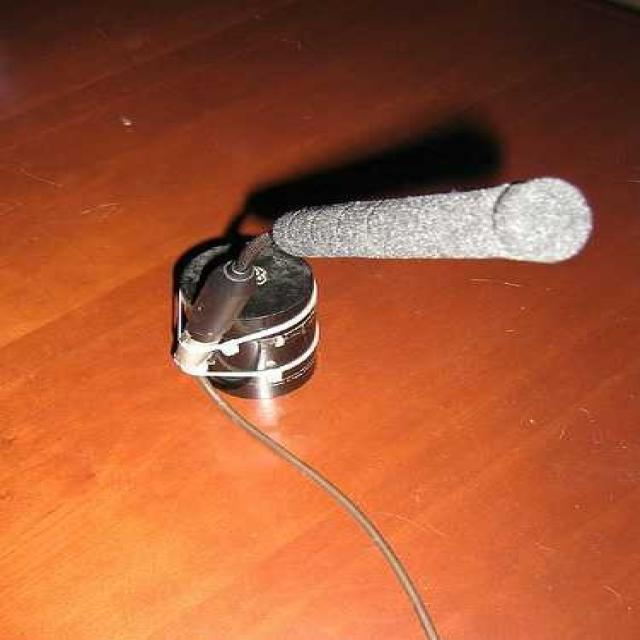microphone: (220, 175, 598, 287)
